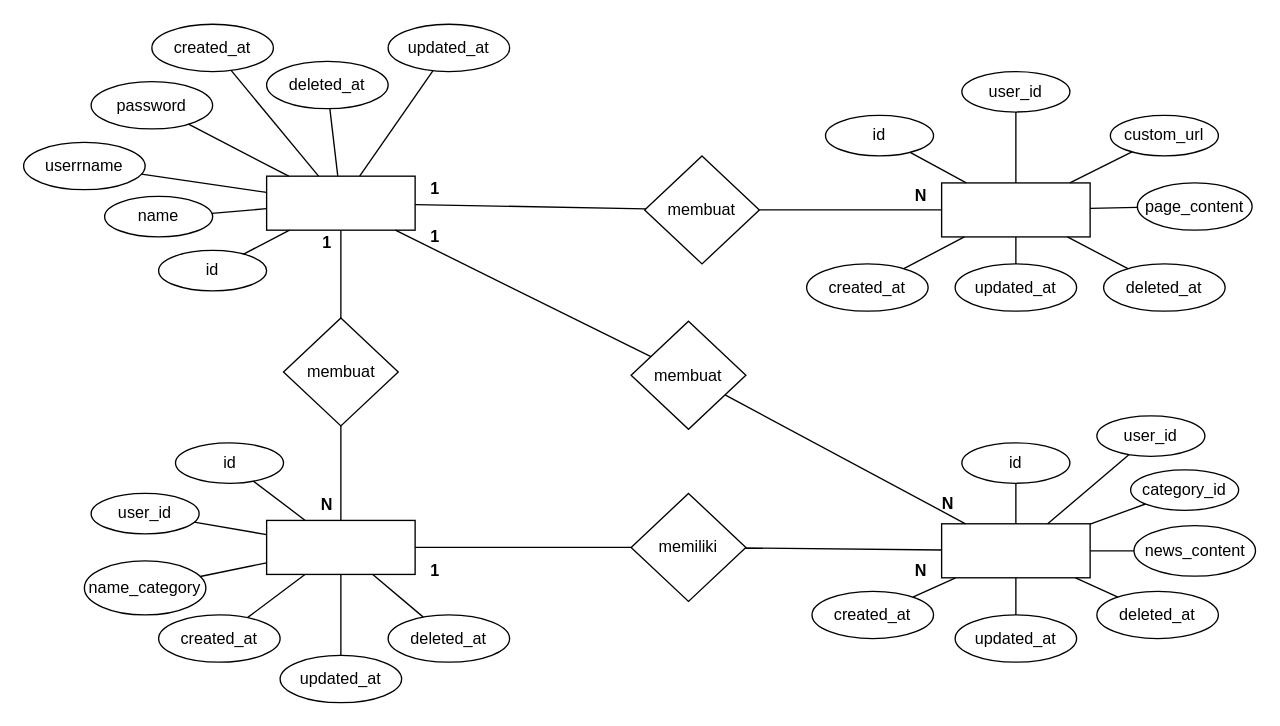
Some shapes in this 1280 by 726 pixel diagram are drawn without their labels. Here are the shapes that lost their labels. From the top down, the centre of each, then its label:
At (340,202): "user".
At (1015,209): "custom_page".
At (340,546): "category".
At (1015,550): "news".
